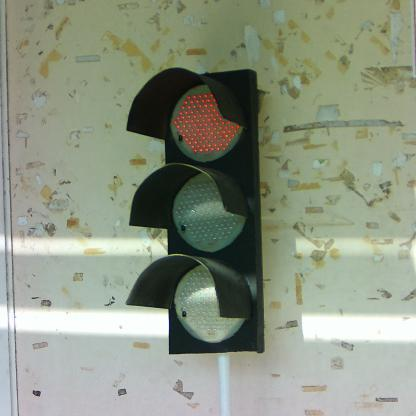red: (136, 69, 268, 352)
